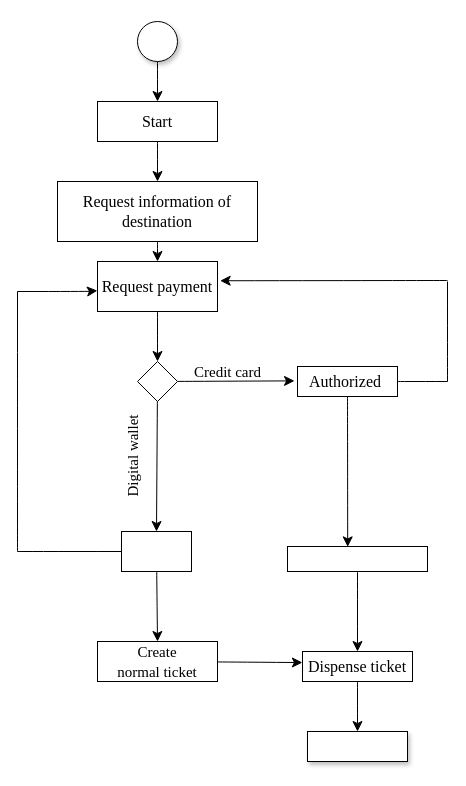
The diagram is 466 pixels wide and 786 high, and some of its shapes have lost their labels. Here are the shapes that lost their labels. From the top down, the centre of each, then its label:
At point (156, 551): "Create QR code".
At point (357, 559): "Create barcode ticket".
At point (358, 747): "Get ticket".
